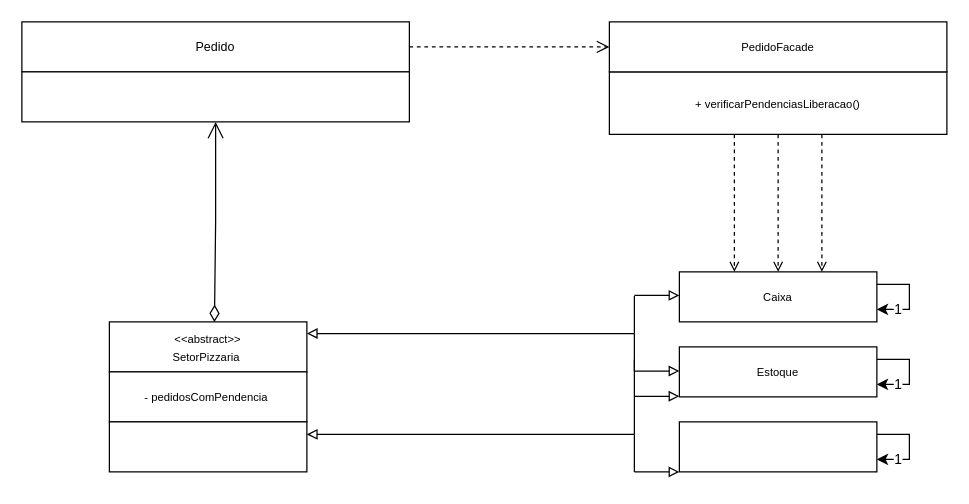
The diagram is 969 pixels wide and 504 high, and some of its shapes have lost their labels. Here are the shapes that lost their labels. From the top down, the centre of each, then its label:
At point 215,96: "+ liberarParaEntrega()".
At point 207,446: "+ addPedidoPendente() + verificarPedido...()".
At point 777,446: "Cozinha".
